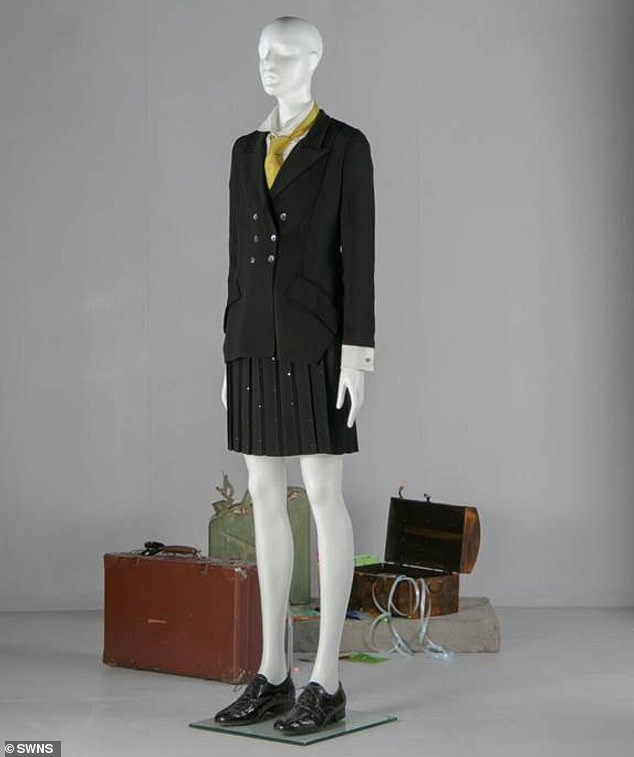person-like: (213, 6, 385, 742)
